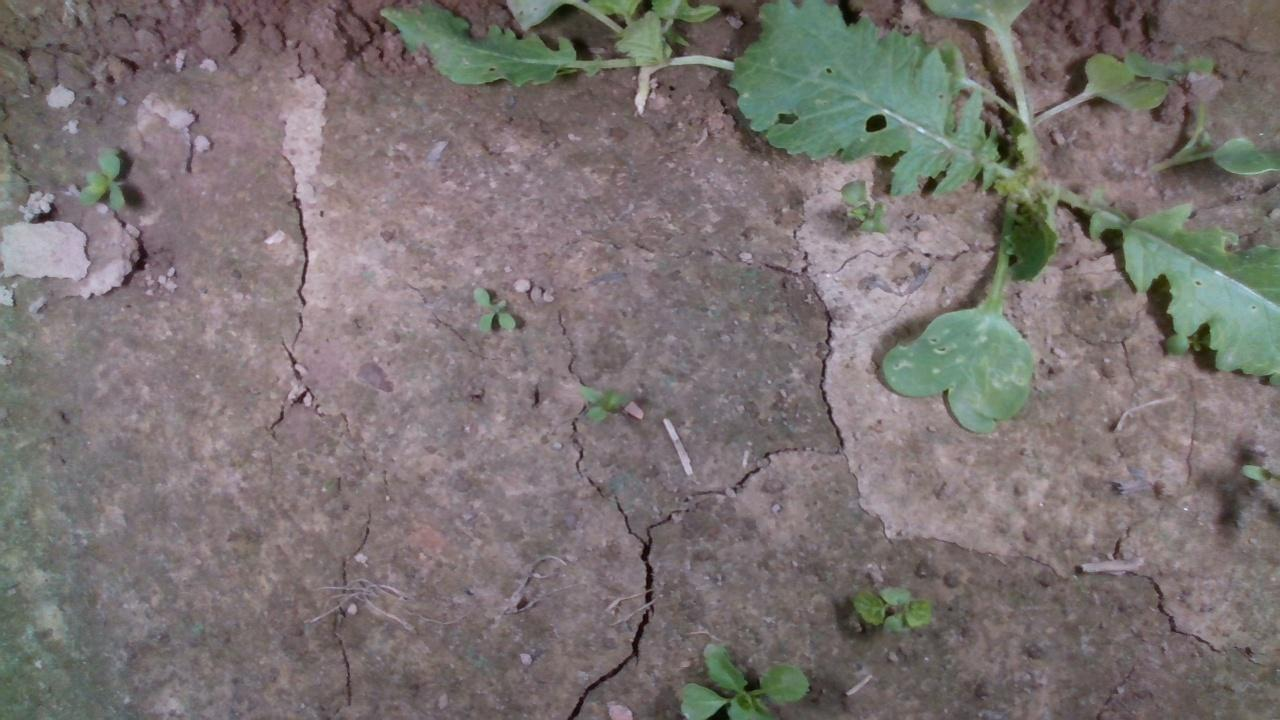weed: (851, 580, 933, 631), (569, 382, 644, 425), (470, 283, 516, 333)
